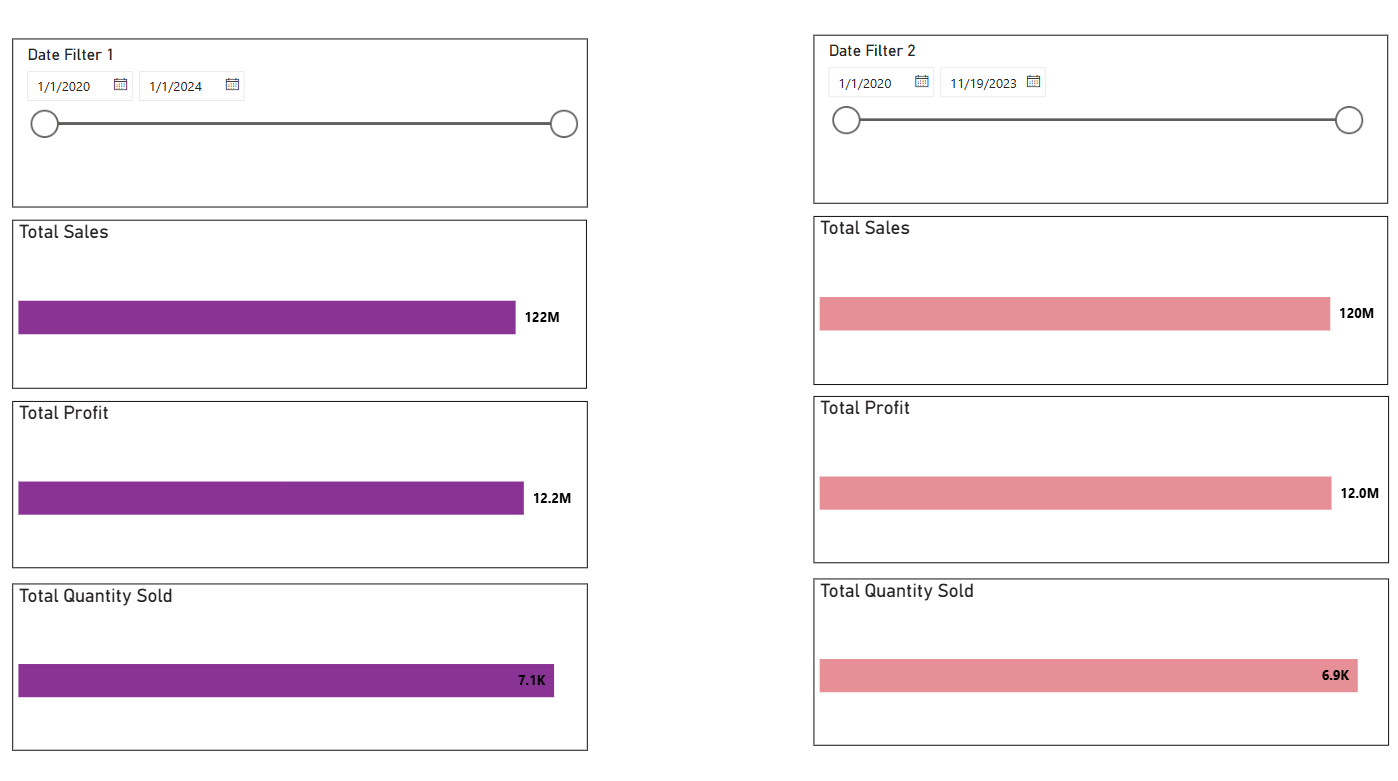

This screenshot's page, from the dashboard's own definition file:
{"tool":"powerbi","page":{"name":"Comparison Sales/Profit","canvas":[1280,720],"ordinal":2},"visuals":[{"type":"slicer","fields":{"Values":["Fact Table.Date (dd/mm/yyyy)"]},"box":[15,38.7,523.3,153.5],"z":0},{"type":"slicer","fields":{"Values":["Fact Table.Date (dd/mm/yyyy)"]},"box":[742.9,35.2,522.1,153.5],"z":1000},{"type":"barChart","title":"Total Sales","fields":{"Y":["Sum(Fact Table.Net Sales)"]},"box":[15,203.8,522.1,153.5],"z":2000},{"type":"barChart","title":"Total Profit","fields":{"Y":["Sum(Fact Table.Profit)"]},"box":[15,367.8,523.3,152.3],"z":3000},{"type":"barChart","title":"Total Quantity Sold","fields":{"Y":["Sum(Fact Table.Units Sold)"]},"box":[15,534,523.3,152.3],"z":4000},{"type":"barChart","title":"Total Sales","fields":{"Y":["Sum(Fact Table.Net Sales)"]},"box":[743.2,199.8,522.1,153.5],"z":5000},{"type":"barChart","title":"Total Profit","fields":{"Y":["Sum(Fact Table.Profit)"]},"box":[743.2,363.8,523.3,152.3],"z":6000},{"type":"barChart","title":"Total Quantity Sold","fields":{"Y":["Sum(Fact Table.Units Sold)"]},"box":[743.2,530.1,523.3,152.3],"z":7000}]}

Visuals, with their boxes in screenshot pixels (x1, y1, x2, y2), scaled from the page's 1280x720 canvas onto the 1398x781 screenshot:
slicer - Fact Table.Date (dd/mm/yyyy): (16, 42, 588, 208)
slicer - Fact Table.Date (dd/mm/yyyy): (811, 38, 1382, 205)
"Total Sales" barChart: (16, 221, 587, 388)
"Total Profit" barChart: (16, 399, 588, 564)
"Total Quantity Sold" barChart: (16, 579, 588, 744)
"Total Sales" barChart: (812, 217, 1382, 383)
"Total Profit" barChart: (812, 395, 1383, 560)
"Total Quantity Sold" barChart: (812, 575, 1383, 740)
